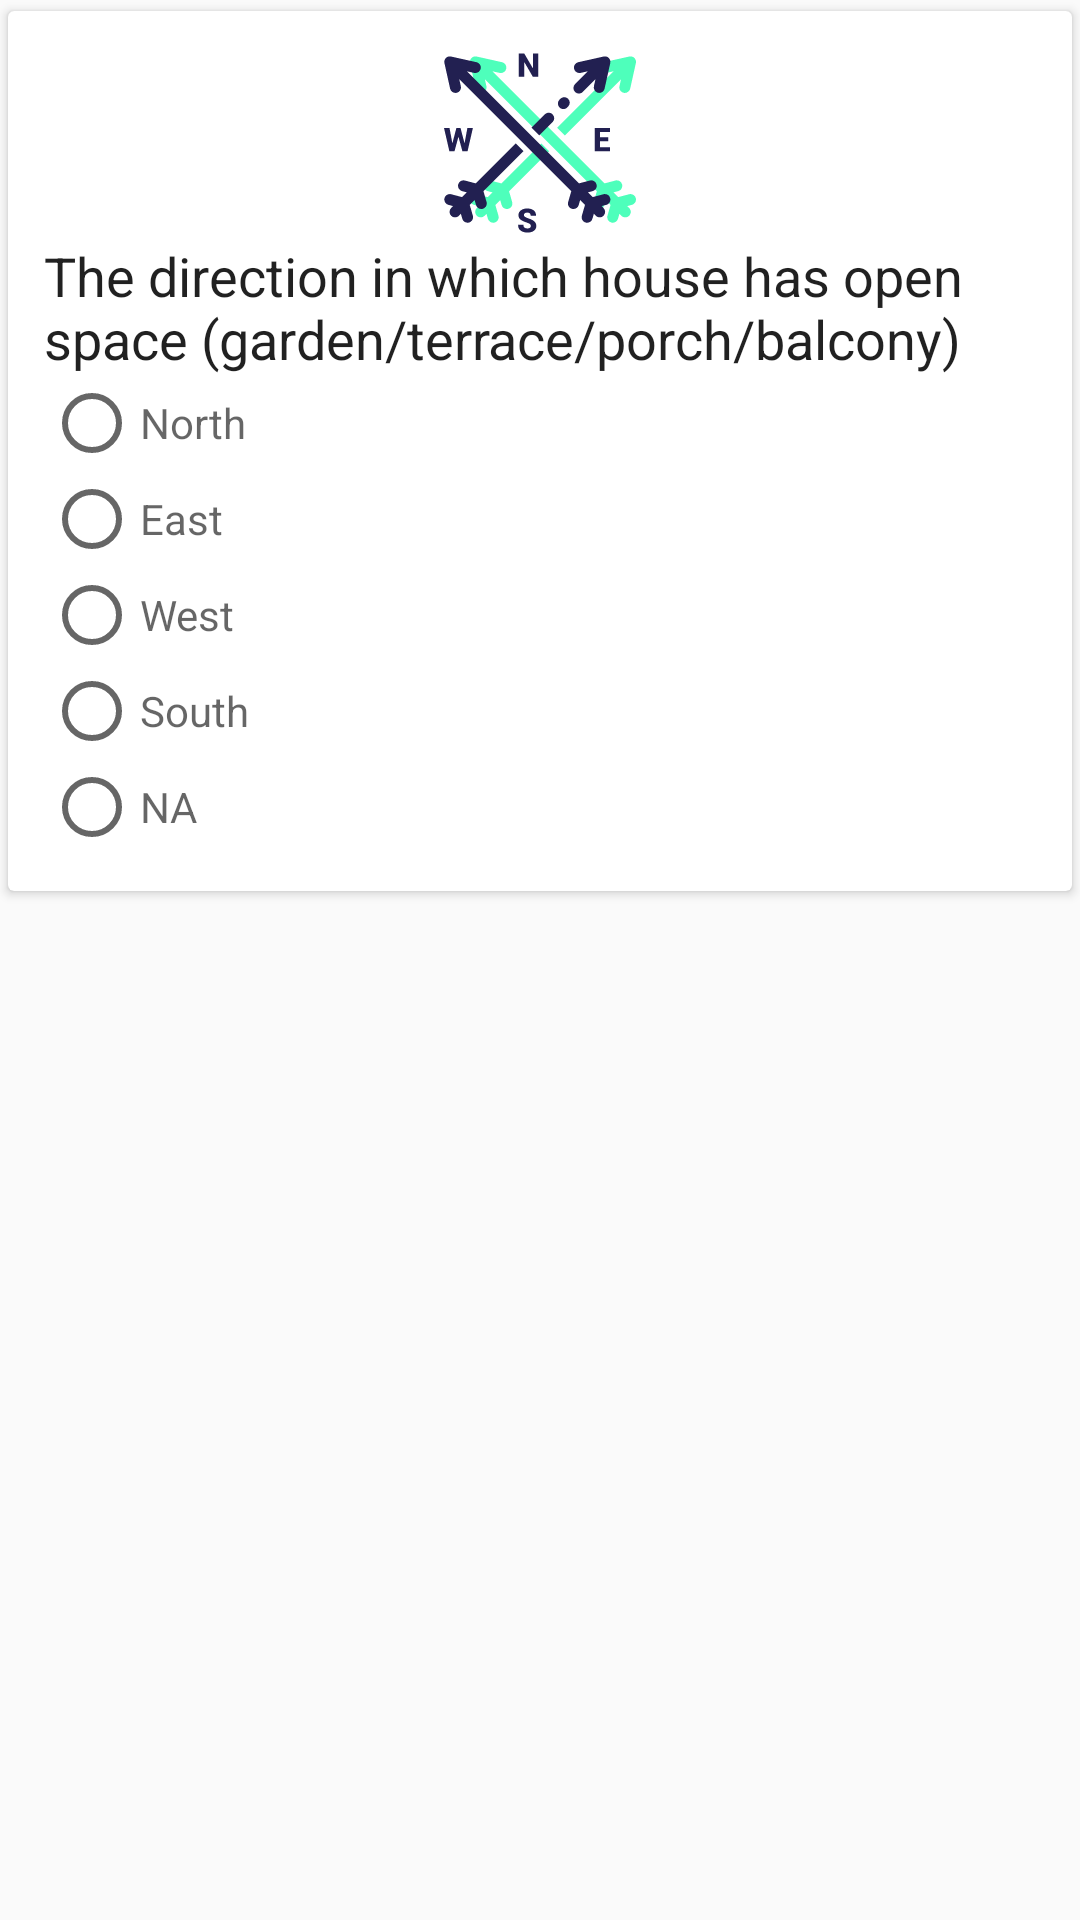

Named icons in this screenshot (1080×1920) and their bounding boxes, (x1, y1, x2, y2):
cardinal point: (444, 53, 636, 233)
